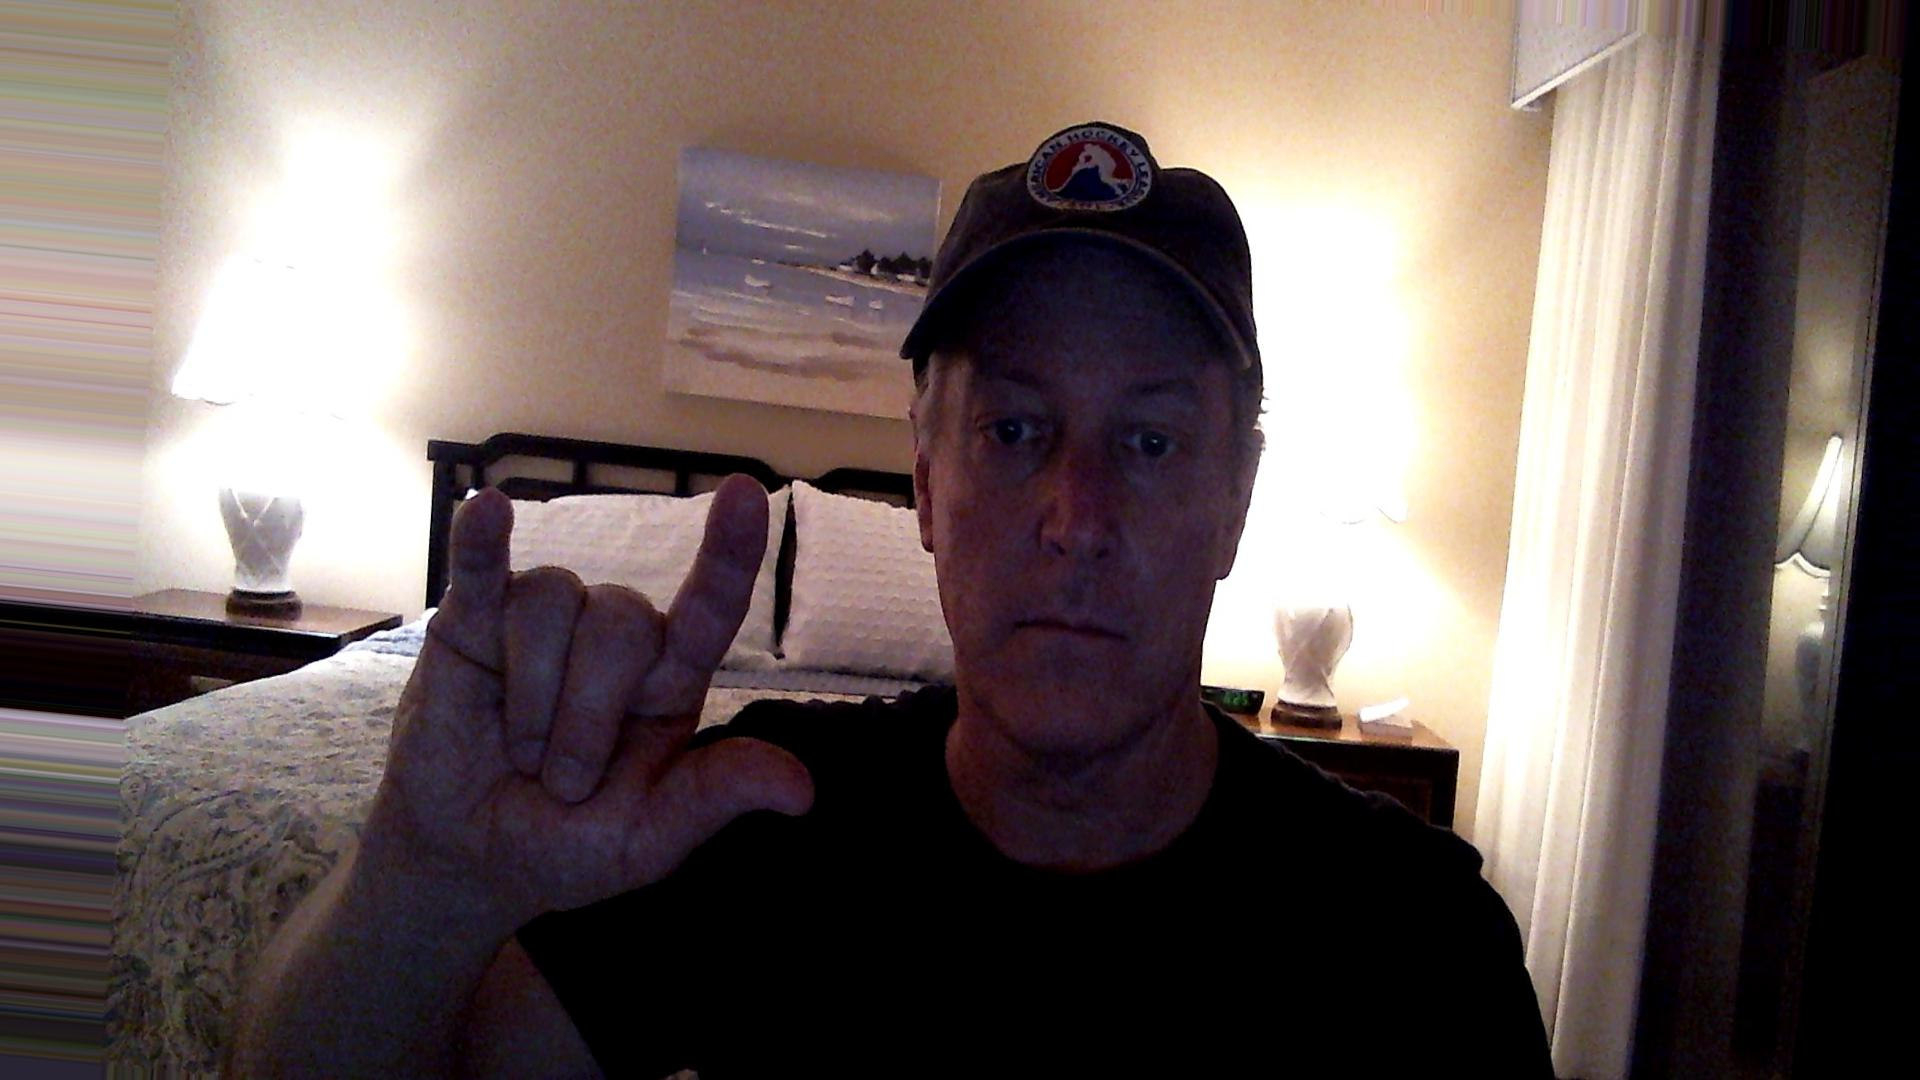I Love You: (353, 442, 847, 938)
